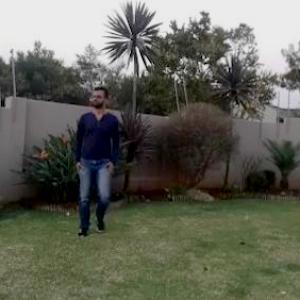follow: (66, 71, 129, 261)
